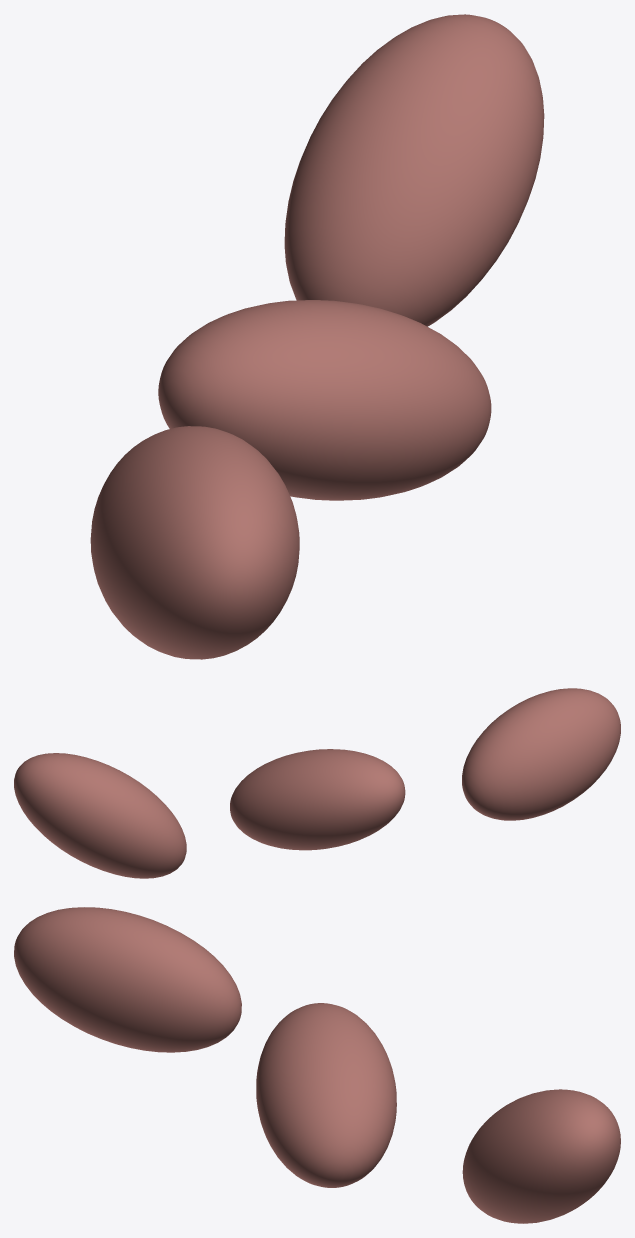
Rendered from coccobacilli.glb.
3 renders of one model, top to bottom at view 1: azimuth 30°, elevation 25°; view 2: azimuth 150°, elevation 25°; view 3: azimuth 270°, elevation 25°, orthographic. The views are drawn at different scales.
Parts seen in each view (by area): view 1: Sphere.002, Sphere.001, Sphere.003; view 2: Sphere.003, Sphere.002, Sphere.001; view 3: Sphere.003, Sphere.001, Sphere.002.
Part boxes in pixels (x1=…): Sphere.002: x1=284, y1=14, x2=544, y2=326; Sphere.001: x1=158, y1=300, x2=491, y2=500; Sphere.003: x1=90, y1=426, x2=299, y2=659; Sphere.003: x1=462, y1=688, x2=620, y2=820; Sphere.002: x1=14, y1=753, x2=186, y2=878; Sphere.001: x1=230, y1=749, x2=405, y2=850; Sphere.003: x1=14, y1=907, x2=241, y2=1052; Sphere.001: x1=256, y1=1003, x2=396, y2=1187; Sphere.002: x1=462, y1=1089, x2=620, y2=1223.
Size of the model in its own units: 4.71 by 1.43 by 5.03.
